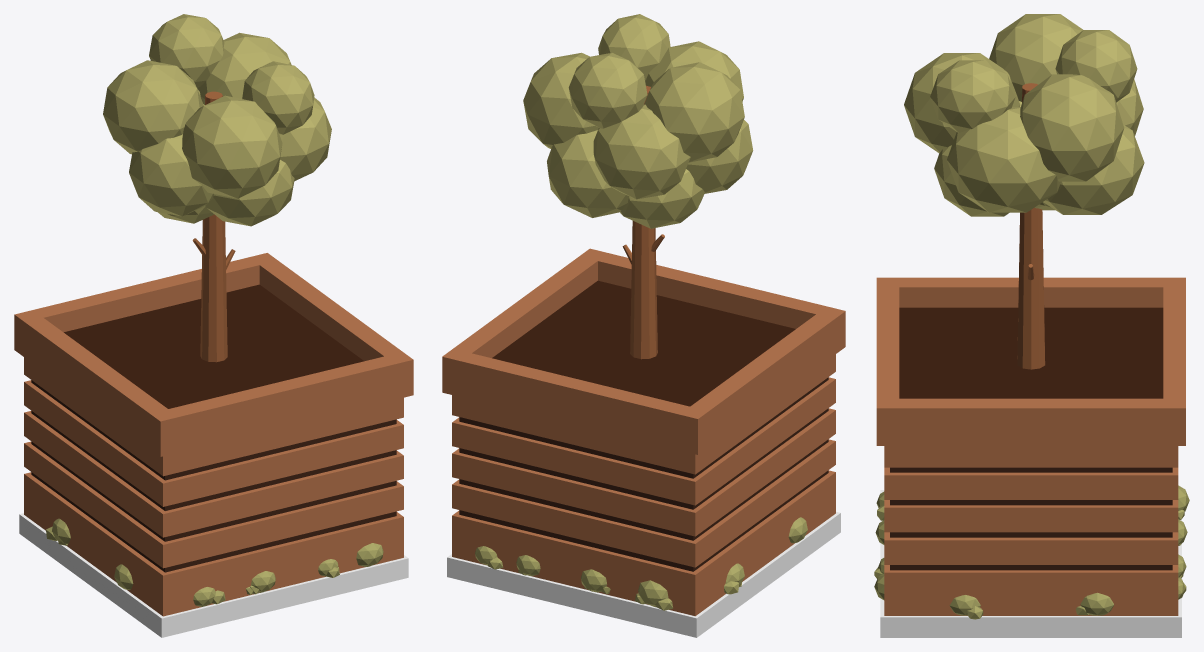
Rendered from 38-tree-planter-box-bs4.glb.
The picture shows the model from 3 angles, left to right: view 1: azimuth 30°, elevation 25°; view 2: azimuth 150°, elevation 25°; view 3: azimuth 270°, elevation 25°; orthographic projection. The views are drawn at different scales.
Visible parts, largest first — view 1: SoilInside, RimS, Slat4, Slat3, Slat2, Slat1, SoilBed, Lobe6, Slat5, RimW, GrooveCore, Lobe4 (+10 smaller); view 2: SoilInside, RimN, Slat2, Slat3, Slat4, Slat1, SoilBed, Slat5, RimW, GrooveCore, Lobe4, RimS (+12 smaller); view 3: SoilInside, RimE, Lobe5, Slat2, Slat3, Slat4, Slat1, Lobe8, RimW, SoilBed, GrooveCore, Slat5 (+12 smaller).
Boxes of the visible parts, x1,y1,x2,y2 form: SoilInside: (64, 284, 363, 408); RimS: (149, 352, 413, 456); Slat4: (24, 380, 403, 506); Slat3: (24, 411, 403, 537); Slat2: (24, 441, 403, 568); Slat1: (24, 472, 403, 598); SoilBed: (19, 513, 408, 637); Lobe6: (182, 95, 282, 198); Slat5: (24, 357, 403, 476); RimW: (25, 318, 167, 448); GrooveCore: (31, 380, 396, 572); Lobe4: (103, 60, 203, 154); SoilInside: (492, 280, 795, 406); RimN: (442, 349, 708, 454); Slat2: (452, 439, 835, 567); Slat3: (452, 408, 835, 536); Slat4: (452, 377, 835, 505); Slat1: (452, 470, 835, 598); SoilBed: (447, 511, 840, 637); Slat5: (452, 354, 835, 474); RimW: (690, 314, 834, 446); GrooveCore: (459, 377, 828, 571); Lobe4: (644, 62, 744, 162); RimS: (579, 248, 845, 354); SoilInside: (899, 307, 1163, 398); RimE: (899, 398, 1163, 445); Lobe5: (1020, 74, 1124, 181); Slat2: (884, 532, 1178, 564); Slat3: (884, 500, 1178, 532); Slat4: (884, 467, 1178, 499); Slat1: (884, 565, 1178, 597); Lobe8: (947, 107, 1060, 212); RimW: (899, 277, 1163, 307); SoilBed: (880, 490, 1181, 637); GrooveCore: (890, 467, 1172, 570); Slat5: (884, 446, 1178, 467).
Size of the model in its own units: 1.69 by 3.19 by 1.67.
